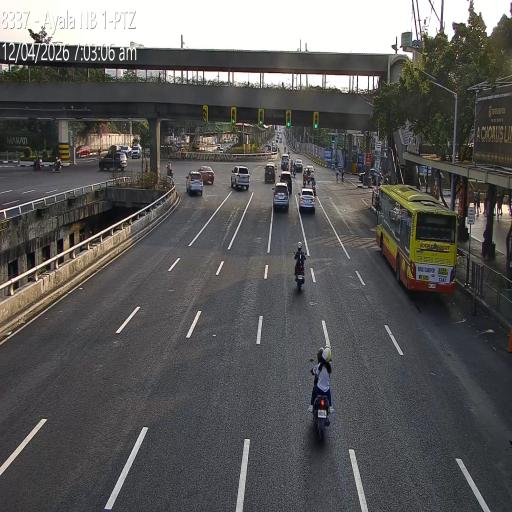Car: (98, 147, 128, 171), (272, 181, 290, 212), (230, 164, 250, 190), (186, 170, 203, 196), (299, 187, 315, 213), (279, 170, 292, 195), (198, 166, 215, 184), (74, 143, 92, 159), (264, 161, 276, 184), (118, 144, 132, 159), (130, 143, 142, 158), (294, 158, 303, 172), (282, 154, 289, 170), (305, 164, 314, 176)
Motor: (307, 348, 334, 443), (292, 248, 308, 290), (51, 154, 63, 175), (311, 176, 317, 198), (306, 168, 312, 185), (165, 166, 172, 180), (302, 169, 307, 186), (289, 158, 294, 174), (285, 158, 290, 171), (292, 163, 296, 178)
Not Accident: (98, 138, 142, 170), (187, 165, 215, 196), (273, 170, 292, 214), (302, 162, 316, 196), (290, 158, 303, 179), (281, 152, 290, 170)
